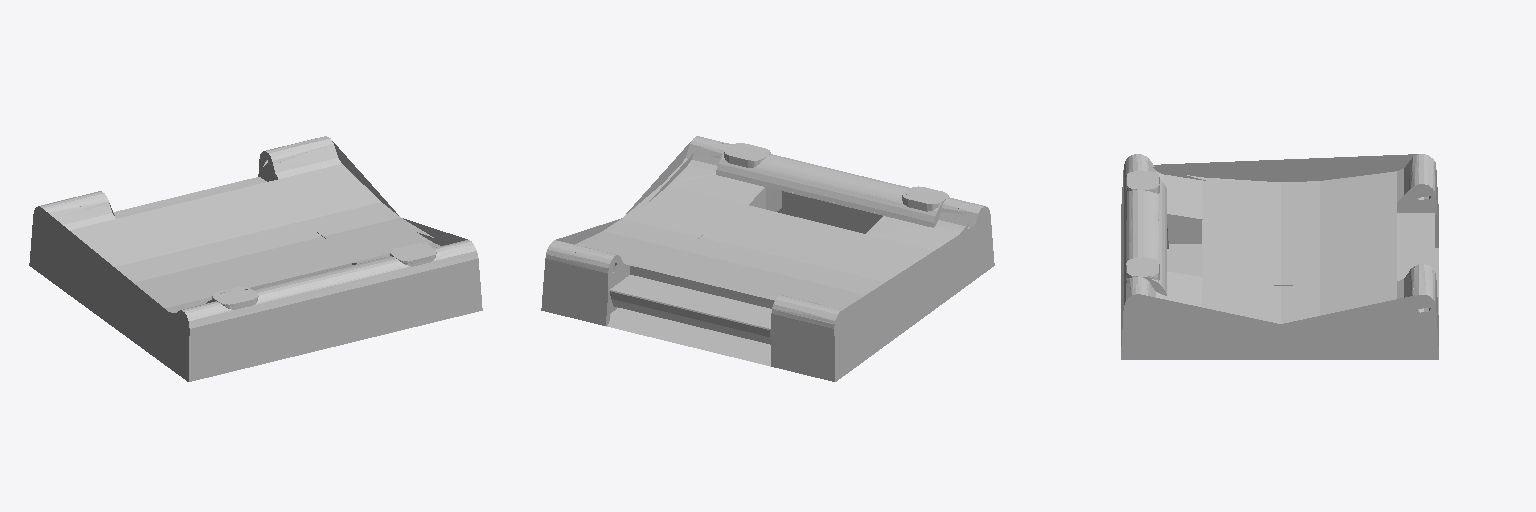
3 views of the same model, side by side, from view 1: azimuth 30°, elevation 25°; view 2: azimuth 150°, elevation 25°; view 3: azimuth 270°, elevation 25° (orthographic).
Visible parts, largest first — view 1: 5418-Sr; view 2: 5418-Sr; view 3: 5418-Sr.
Boxes of the visible parts, x1,y1,x2,y2 form: 5418-Sr: [29, 136, 482, 381]; 5418-Sr: [541, 136, 994, 381]; 5418-Sr: [1121, 154, 1438, 359].
Size of the model in its own units: 1.64 by 0.3428 by 1.54.